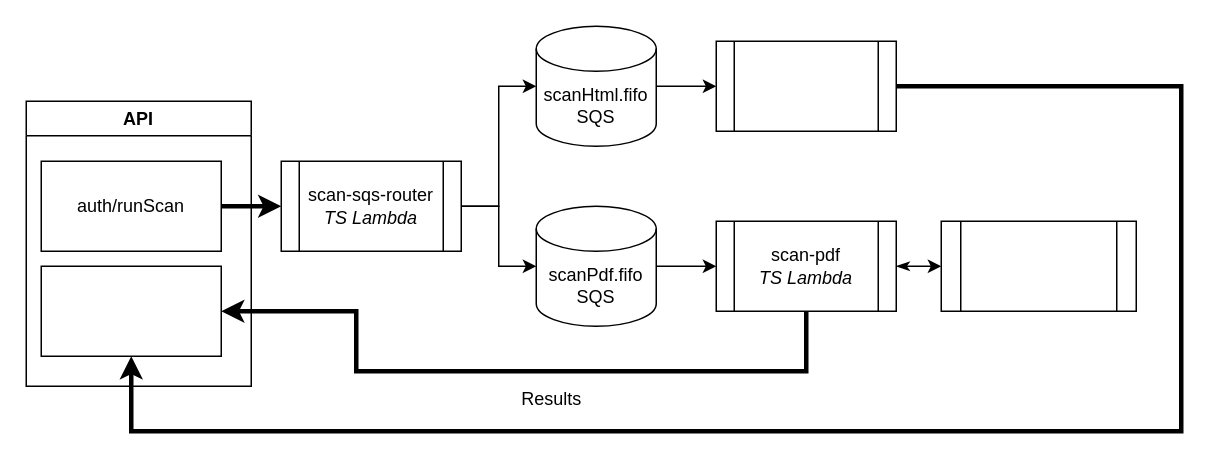
Image size: 1221x471. Some labels were removed from this diagram. Each missing label, with the centre of its shape:
scan-html TS Lambda: point 805,85
scanWebhook: point 130,310
verapdf-interface Java Lambda: point 1038,265
